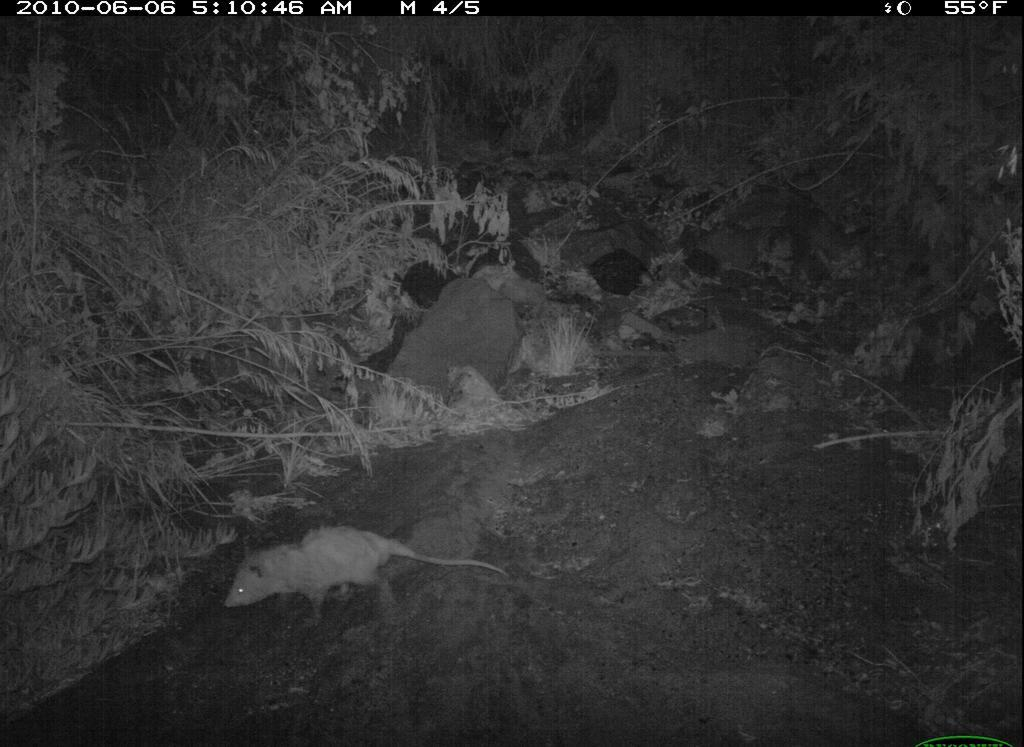opossum: (214, 511, 477, 633)
